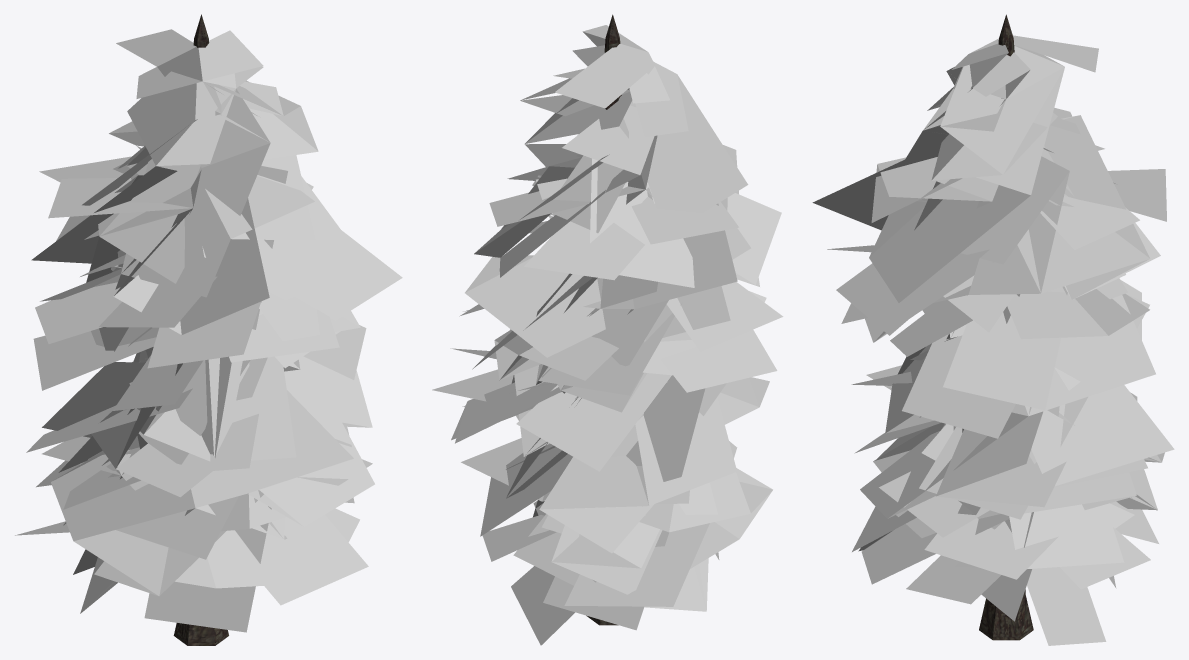
The model's file is Tree_Conifer_NoLeaves.fbx.
3 views of the same model, side by side, from view 1: azimuth 30°, elevation 25°; view 2: azimuth 150°, elevation 25°; view 3: azimuth 270°, elevation 25° (orthographic). The views are drawn at different scales.
Parts seen in each view (by area): view 1: Branch; view 2: Branch; view 3: Branch.
Part boxes in pixels (bbox=[...]): Branch: bbox=[15, 14, 402, 645]; Branch: bbox=[432, 14, 783, 645]; Branch: bbox=[812, 14, 1174, 645].
Bounding box in the file's own units: 3105 × 5541 × 2953.
